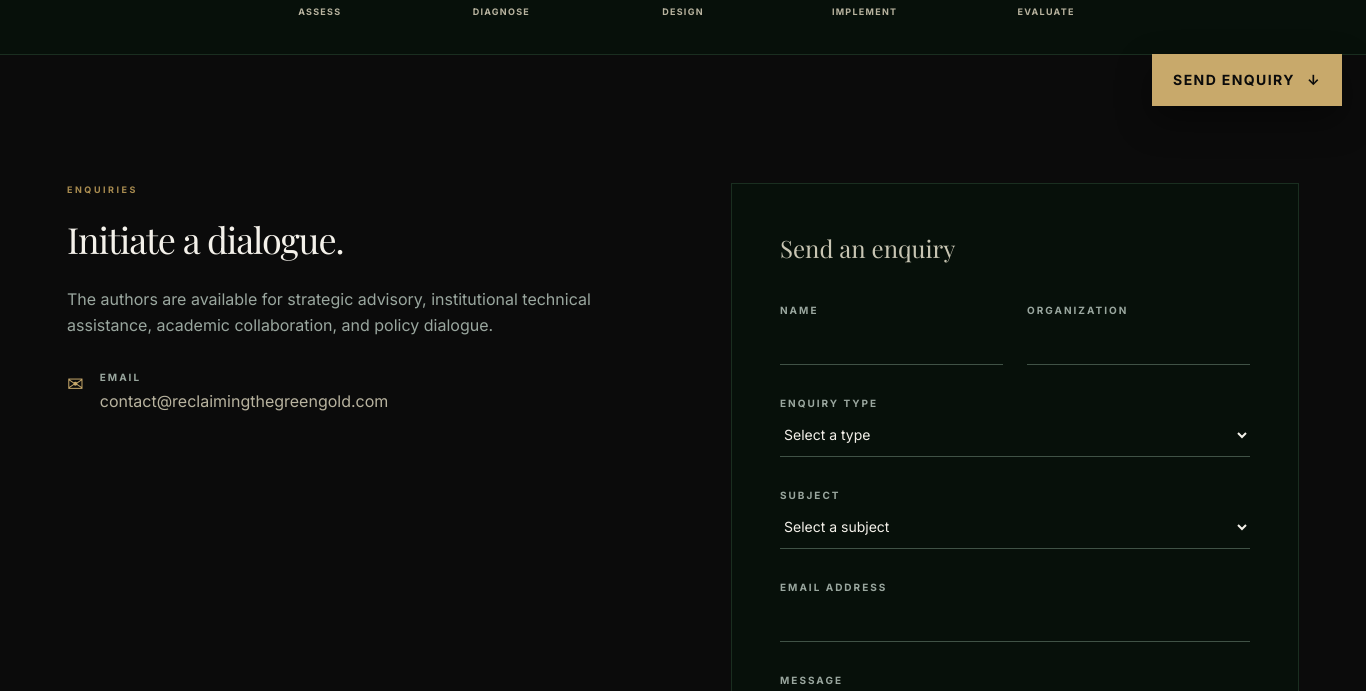
Test: TechnicalAssistance enquiry form › submits the API contract and shows success
The image size is (1366, 691).
(page scrolled)
Type "Ada Lovelace" into the field labelled "Name" at (892, 343), box x1=780 y1=320 x2=1003 y2=365
Type "Analytical Engine" into the field labelled "Organization" at (1138, 343), box x1=1027 y1=320 x2=1250 y2=365
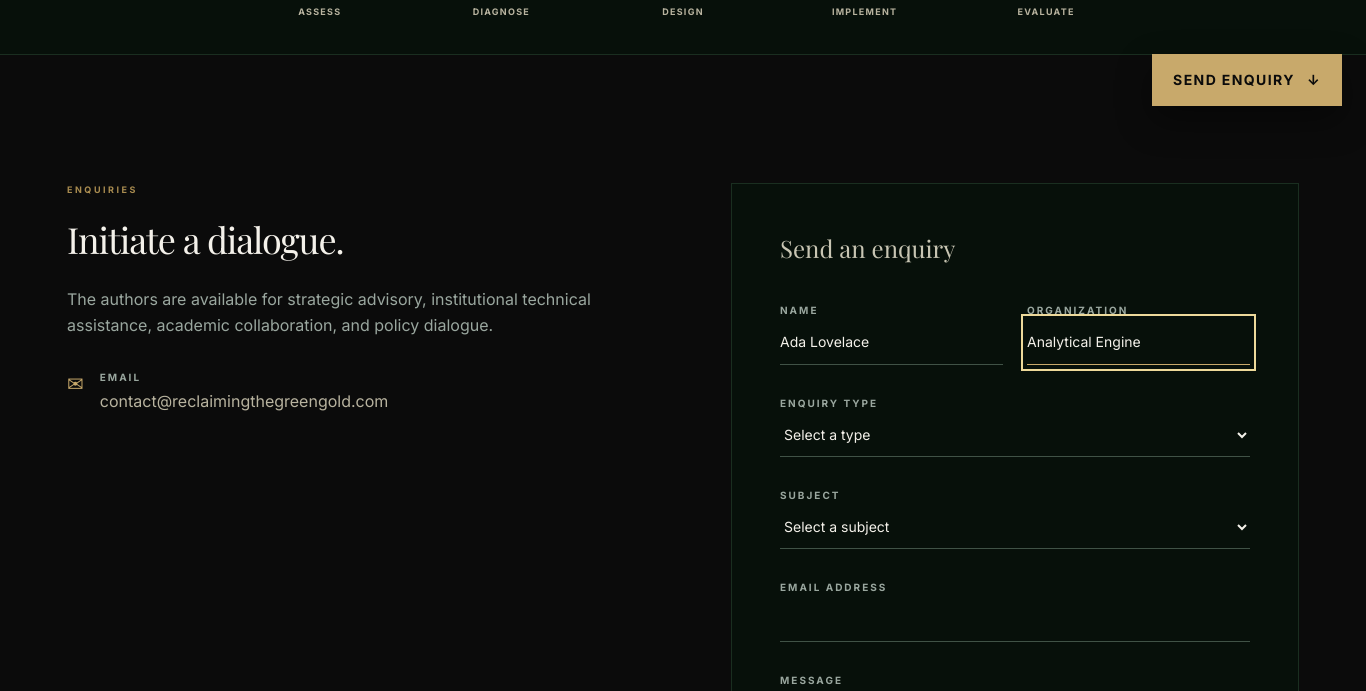
Type "ada@example.com" into the field labelled "Email Address" at (1015, 620), box x1=780 y1=597 x2=1250 y2=642
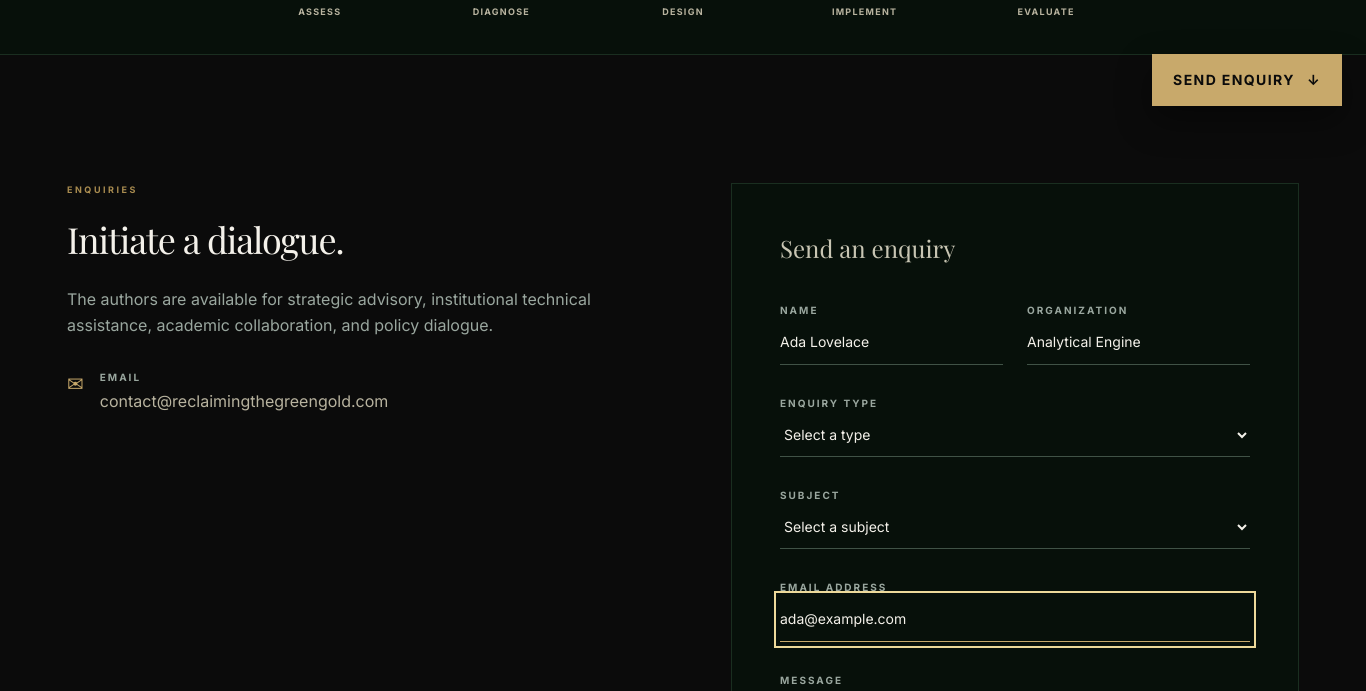
Select "Technical assistance" in the dropdown labelled "Enquiry Type" at (1015, 435), box x1=780 y1=413 x2=1250 y2=457
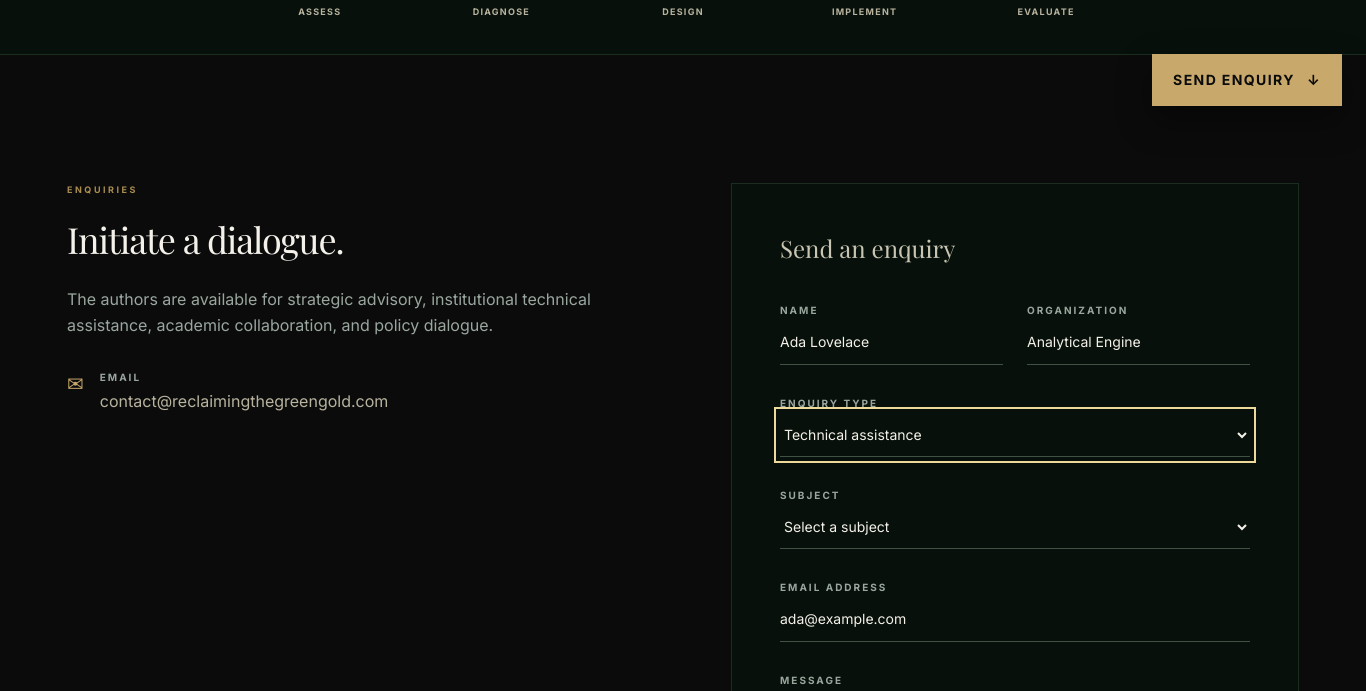
Select "Cannabis governance" in the dropdown labelled "Subject" at (1015, 527), box x1=780 y1=505 x2=1250 y2=549
(page scrolled)
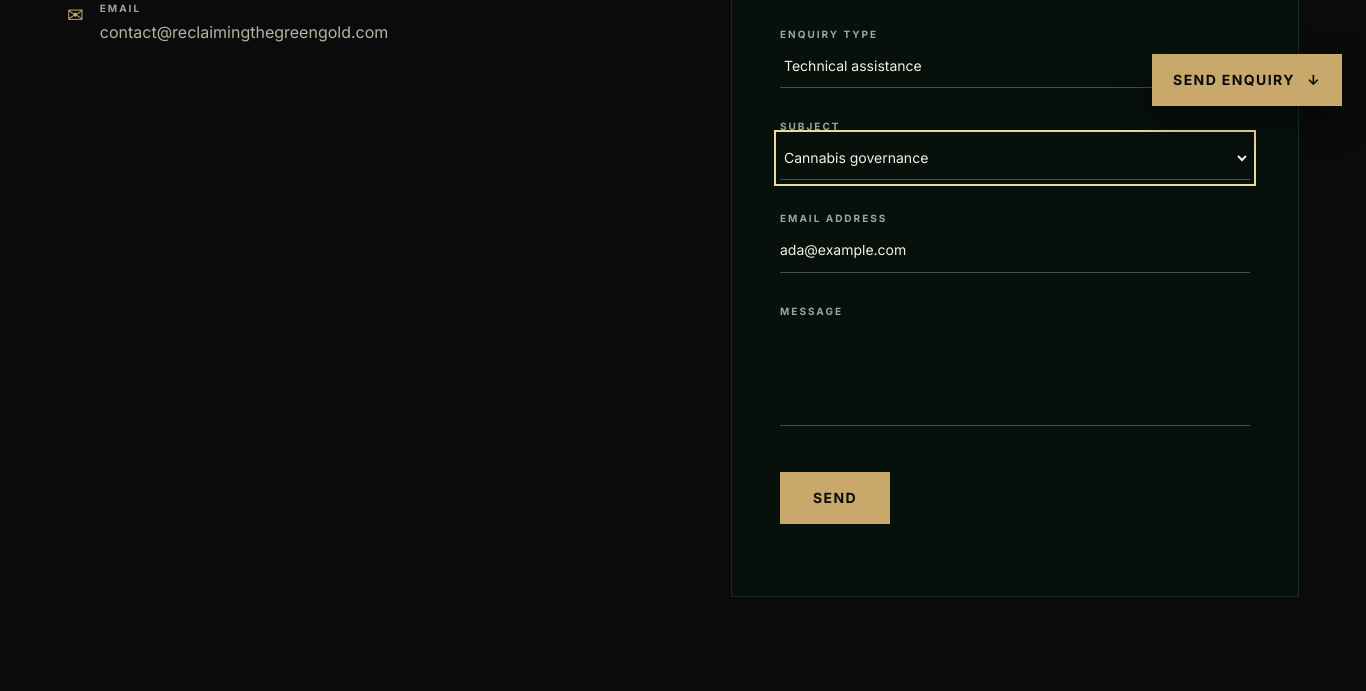
Type "Please contact me." into the text box labelled "Message" at (1015, 374), box x1=780 y1=321 x2=1250 y2=426
(page scrolled)
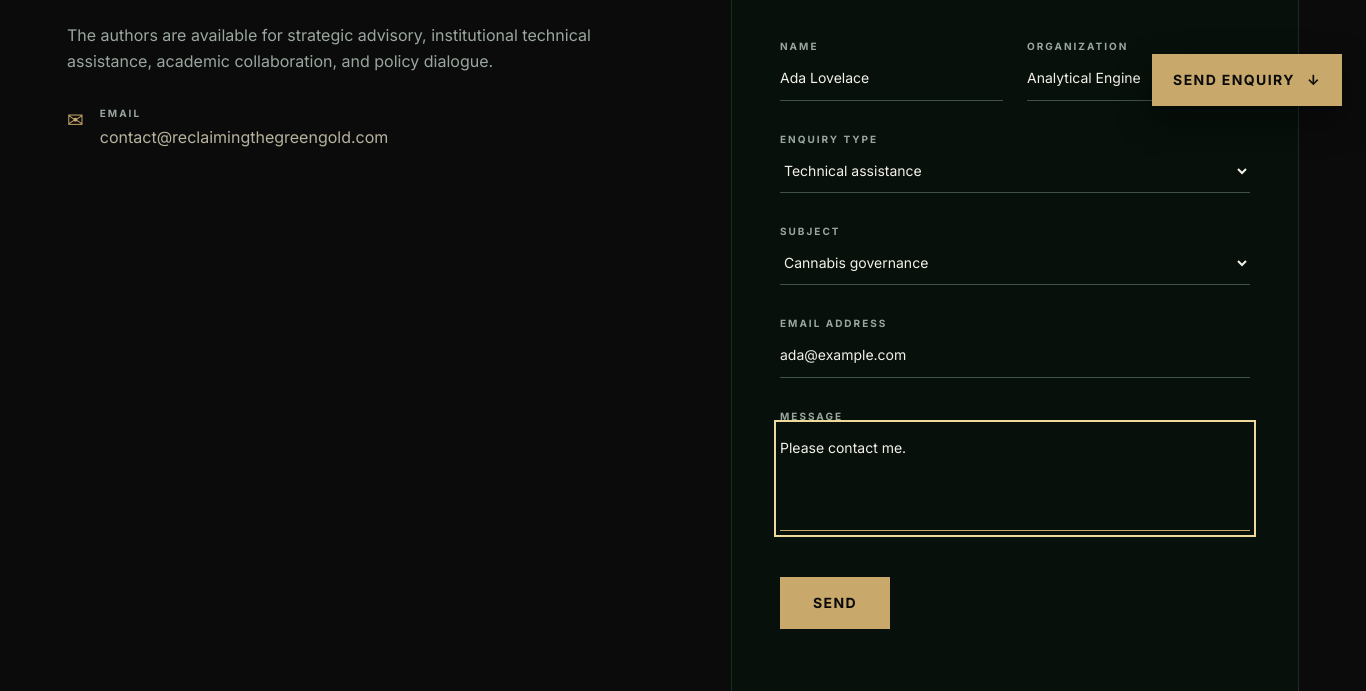
Submit the form "Send", box x1=780 y1=32 x2=1250 y2=653
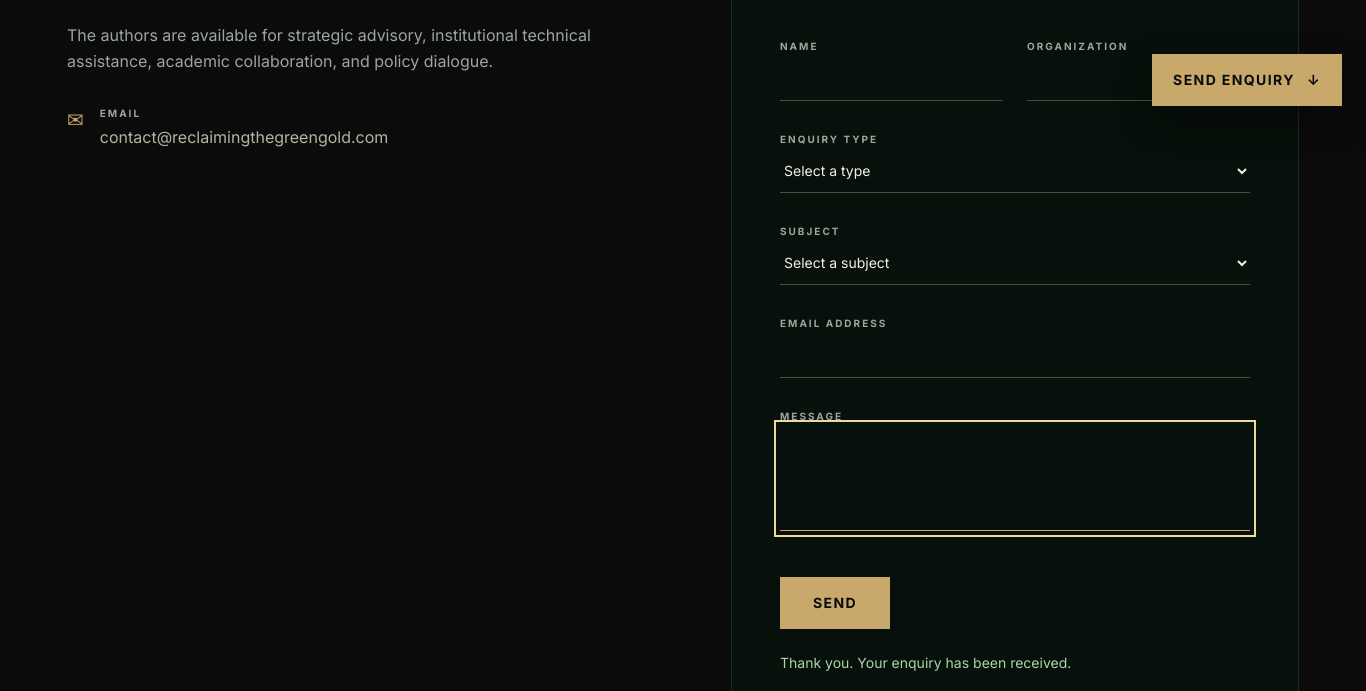
Now the text "Thank you. Your enquiry has been received." is shown, box x1=780 y1=654 x2=1071 y2=671
